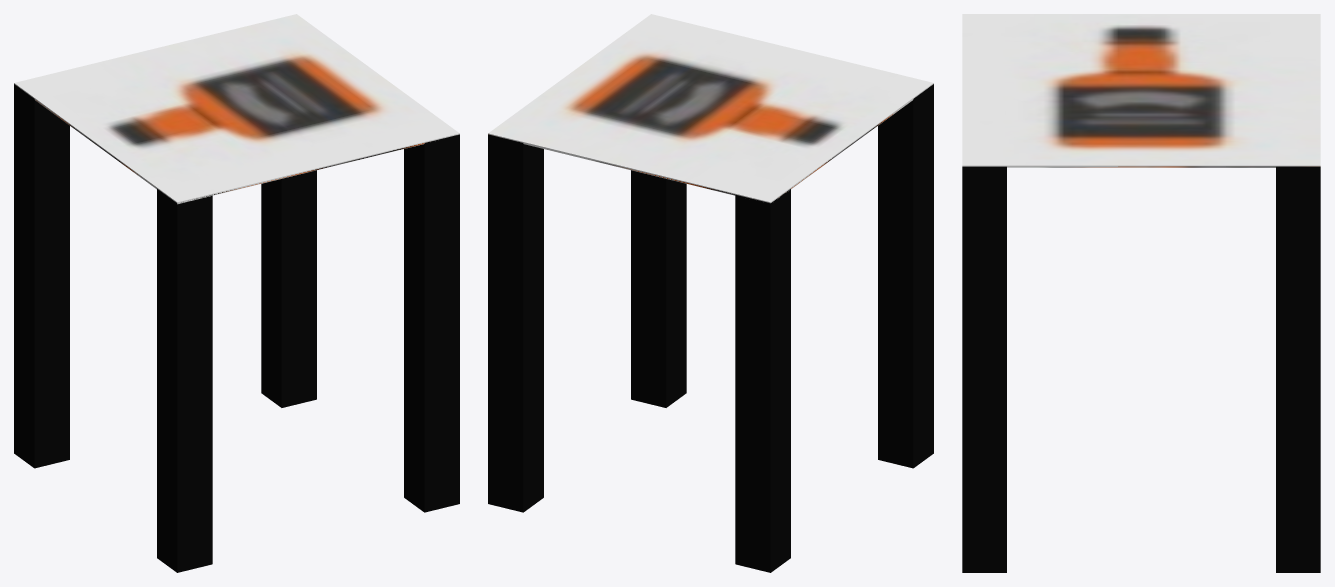
Rendered from cash_smash_bin.dae.
3 views of the same model, side by side, from view 1: azimuth 30°, elevation 25°; view 2: azimuth 150°, elevation 25°; view 3: azimuth 270°, elevation 25° (orthographic). The views are drawn at different scales.
Visible parts, largest first — view 1: Top.001, TL4.001, TL1.001, TL3.001, TL2.001; view 2: Top.001, TL3.001, TL2.001, TL4.001, TL1.001; view 3: Top.001, TL2.001, TL1.001.
Boxes of the visible parts, <box> form: Top.001: <box>14,14,459,204</box>; TL4.001: <box>157,189,212,572</box>; TL1.001: <box>404,134,459,512</box>; TL3.001: <box>14,84,69,468</box>; TL2.001: <box>261,170,316,407</box>; Top.001: <box>488,14,933,203</box>; TL3.001: <box>735,189,790,572</box>; TL2.001: <box>488,134,543,512</box>; TL4.001: <box>878,84,933,468</box>; TL1.001: <box>631,170,686,407</box>; Top.001: <box>962,14,1320,167</box>; TL2.001: <box>1276,166,1320,572</box>; TL1.001: <box>962,166,1006,572</box>.
Size of the model in its own units: 0.6096 by 0.6096 by 0.7641.
2 materials, 1 textured.
